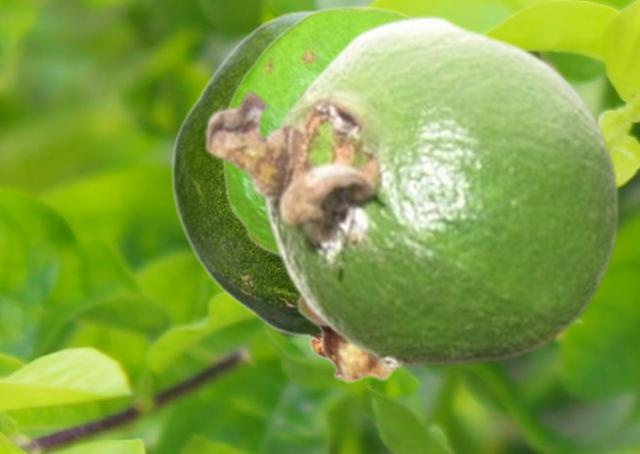guava: (202, 13, 622, 369), (221, 4, 409, 383), (170, 10, 338, 380)
